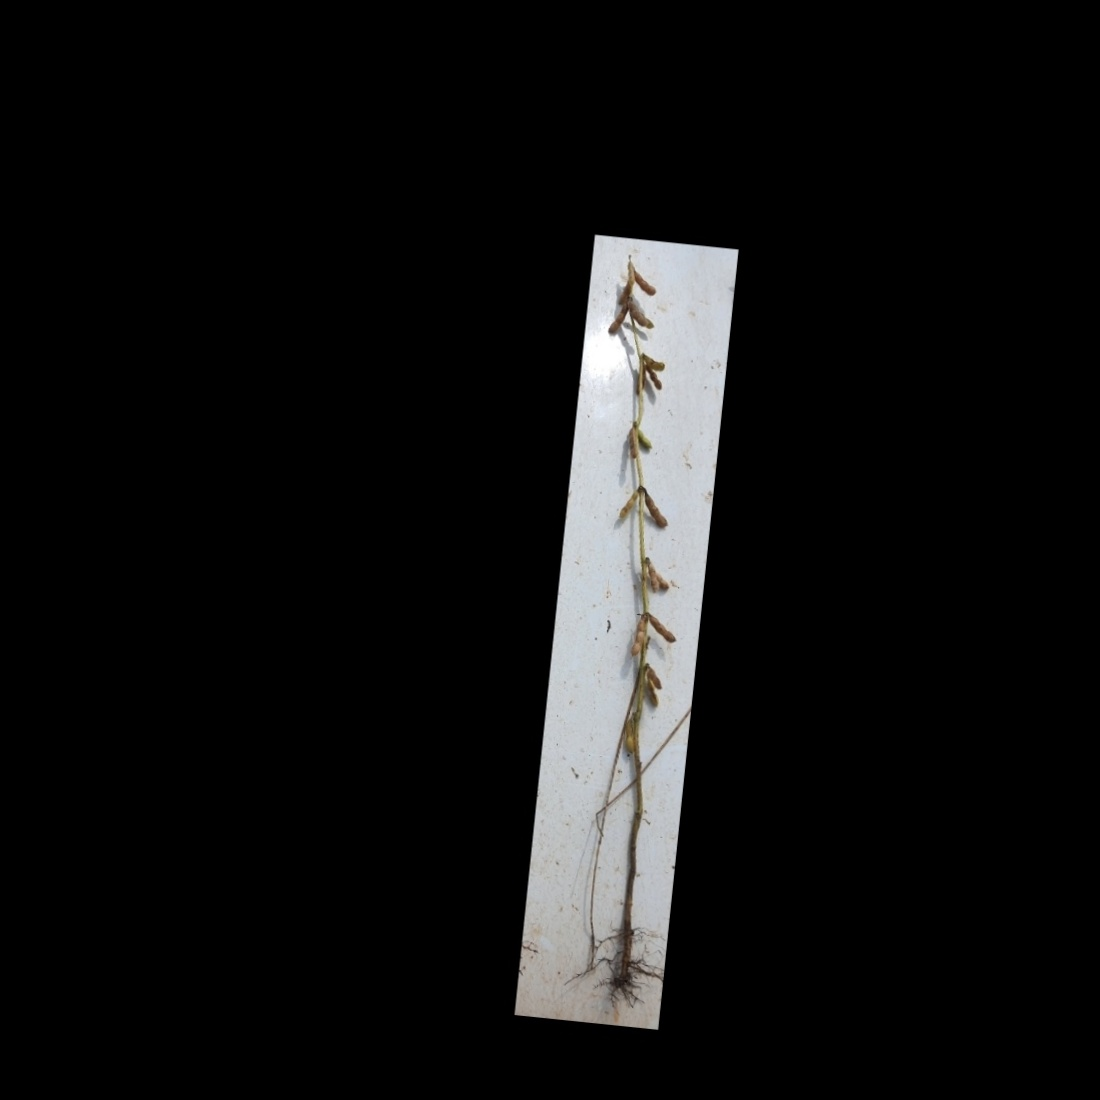pod: (639, 487, 672, 530), (646, 612, 680, 645), (618, 482, 645, 521), (629, 612, 651, 658), (633, 268, 659, 296), (606, 303, 628, 337), (621, 714, 637, 754), (633, 423, 656, 449), (643, 366, 665, 392), (627, 427, 640, 460)
soy: (528, 251, 732, 1004)
